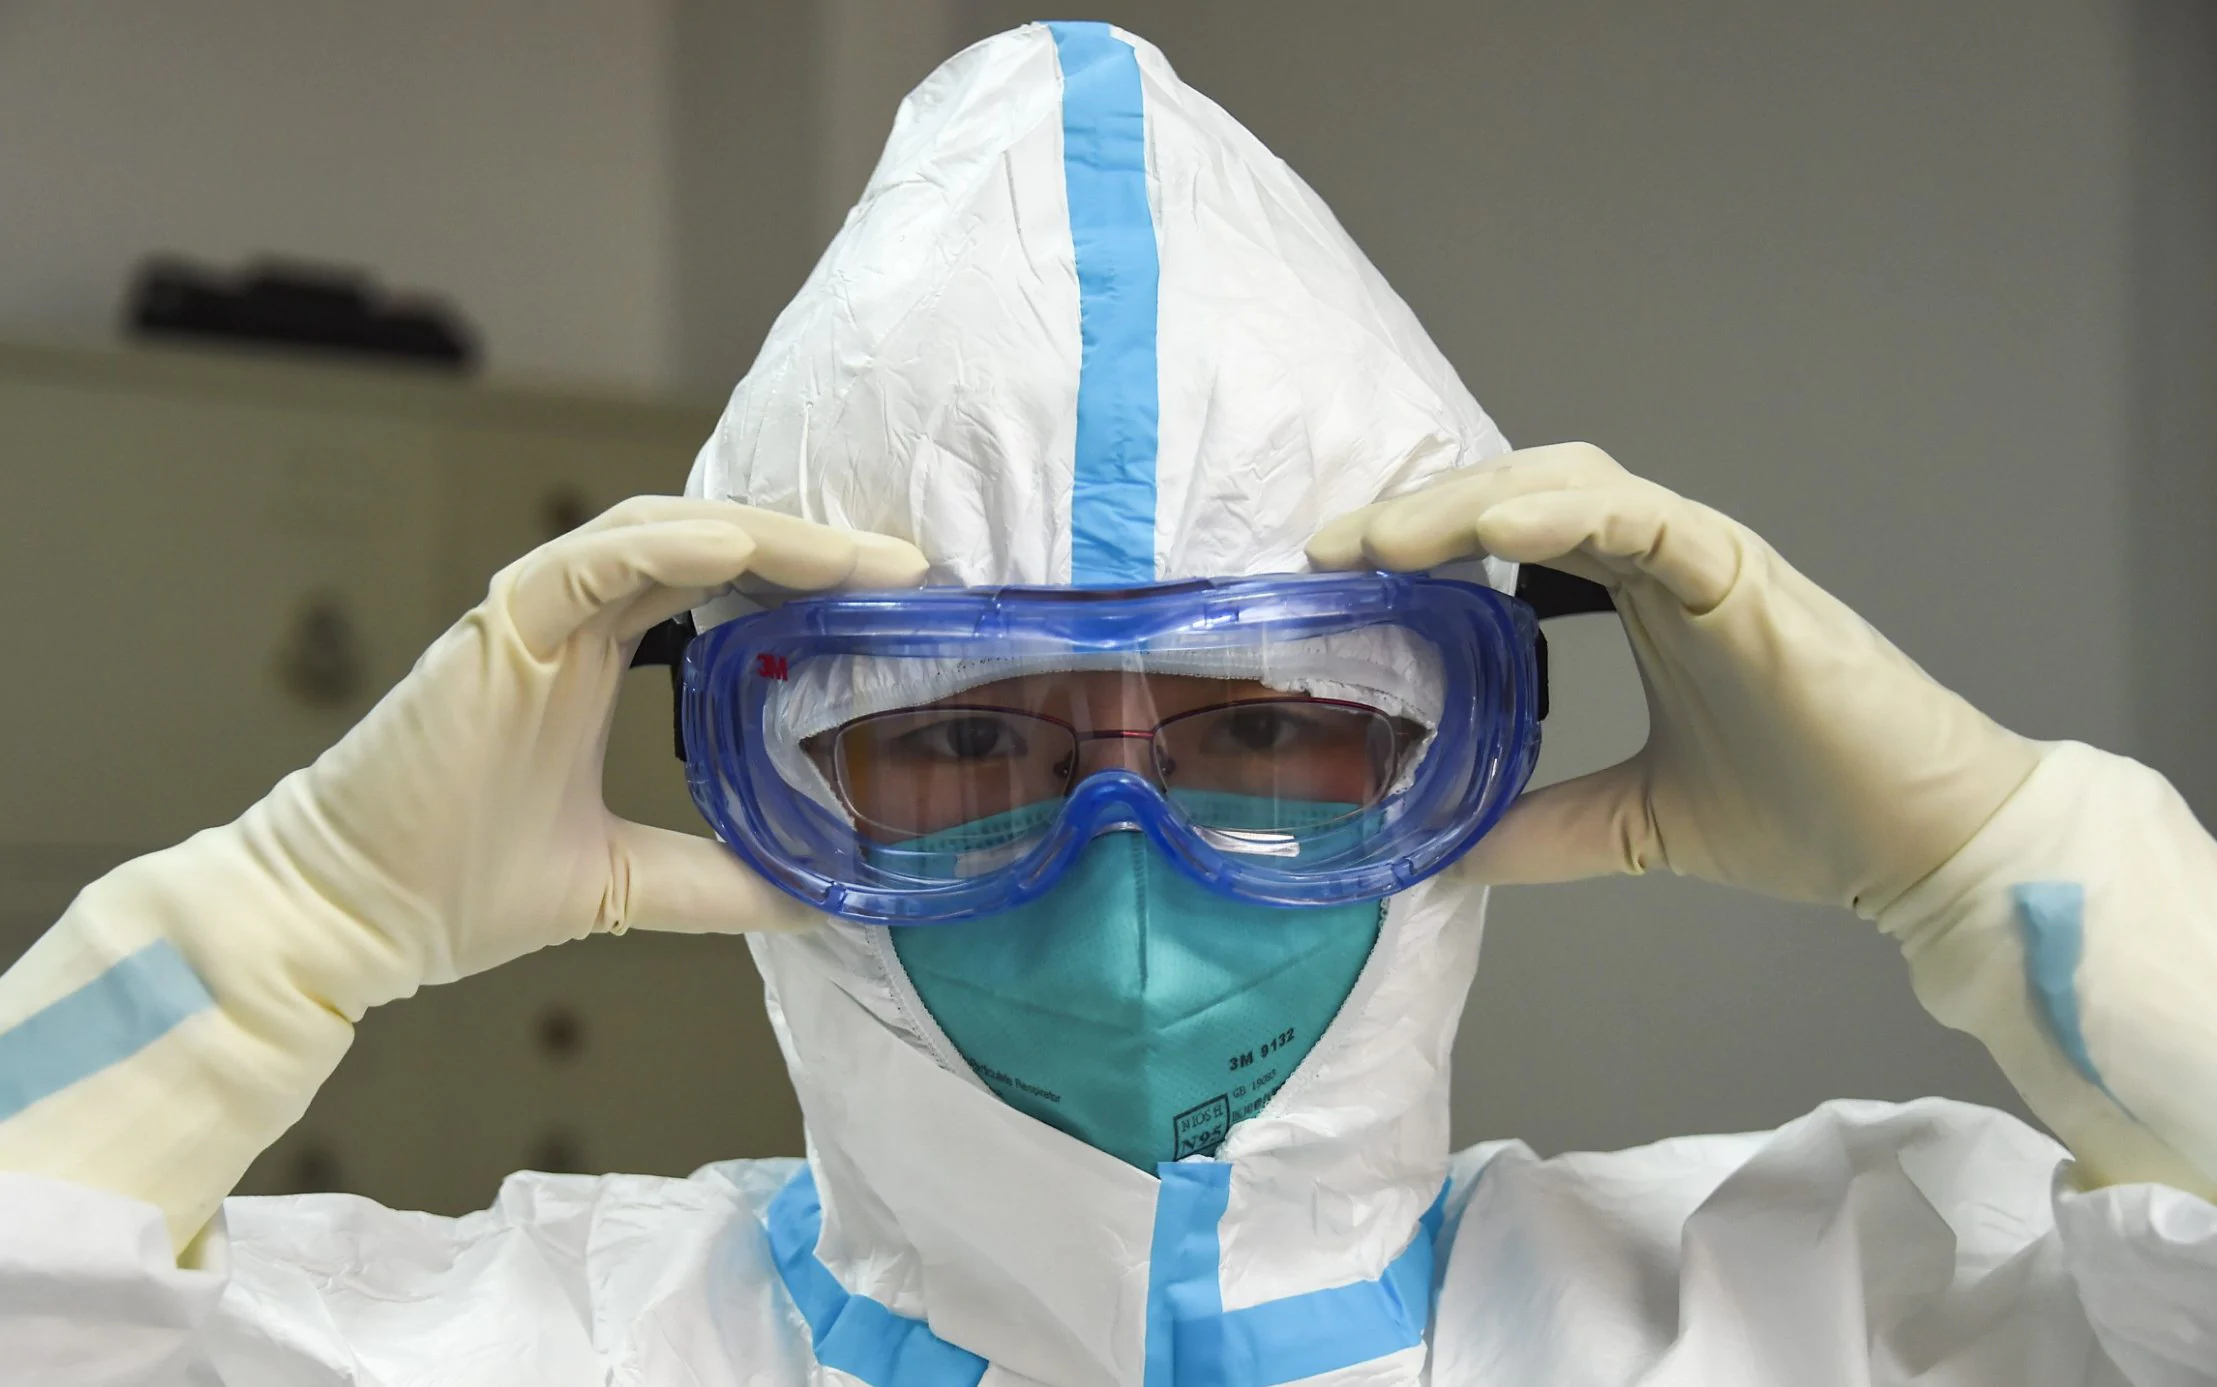Gloves: (200, 469, 920, 1131), (1338, 389, 1994, 1021)
Goggles: (676, 558, 1570, 953)
with_mask: (800, 582, 1457, 1208)
